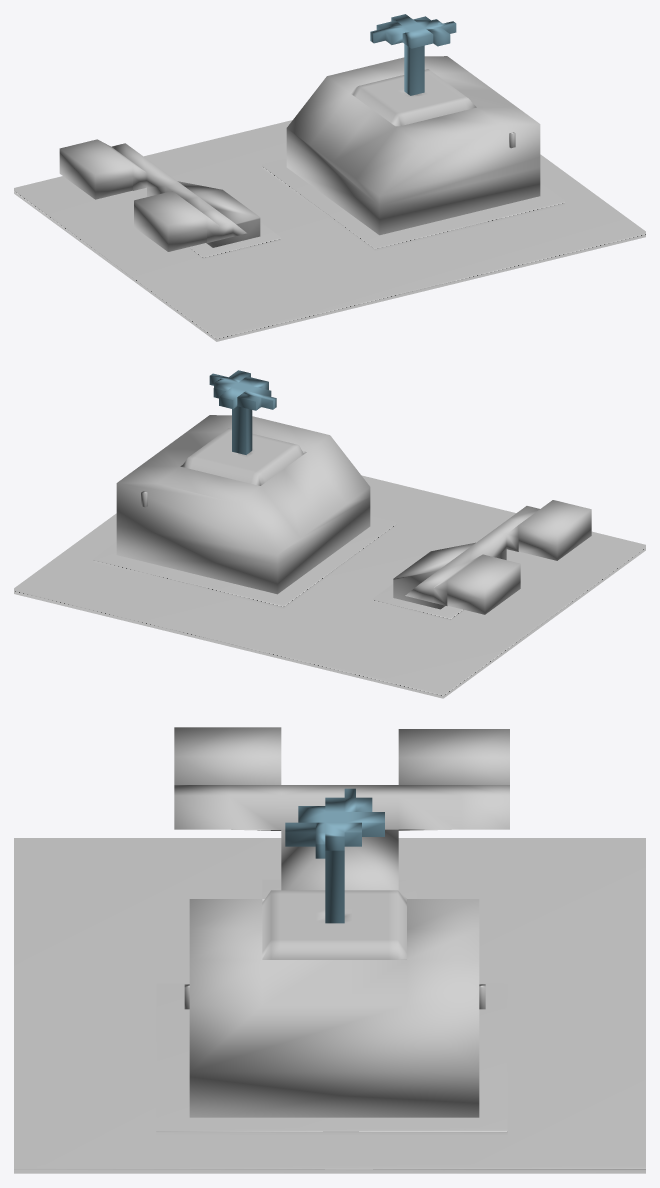
File: Whale.fbx
3 views of the same model, one above another, from view 1: azimuth 30°, elevation 25°; view 2: azimuth 150°, elevation 25°; view 3: azimuth 270°, elevation 25° (orthographic). The views are drawn at different scales.
Parts seen in each view (by area): view 1: Cube, Cube_001, Cube_002, Cube_003, Cube_005, Cube_004; view 2: Cube, Cube_001, Cube_002, Cube_003, Cube_005, Cube_004; view 3: Cube, Cube_001, Cube_002, Cube_003, Cube_005, Cube_004.
Part boxes in pixels (bbox=[...]): Cube: bbox=[14, 120, 645, 341]; Cube_001: bbox=[286, 56, 540, 235]; Cube_002: bbox=[59, 139, 260, 251]; Cube_003: bbox=[262, 158, 564, 250]; Cube_005: bbox=[370, 14, 456, 95]; Cube_004: bbox=[187, 222, 280, 259]; Cube: bbox=[14, 475, 645, 698]; Cube_001: bbox=[116, 415, 370, 594]; Cube_002: bbox=[393, 500, 591, 614]; Cube_003: bbox=[93, 516, 396, 608]; Cube_005: bbox=[209, 370, 276, 454]; Cube_004: bbox=[373, 584, 464, 620]; Cube: bbox=[14, 838, 645, 1173]; Cube_001: bbox=[189, 890, 479, 1117]; Cube_002: bbox=[174, 727, 509, 890]; Cube_003: bbox=[156, 983, 507, 1134]; Cube_005: bbox=[285, 788, 384, 923]; Cube_004: bbox=[262, 879, 416, 898].
Bounding box in the file's own units: 6.4 × 2.64 × 5.23.
